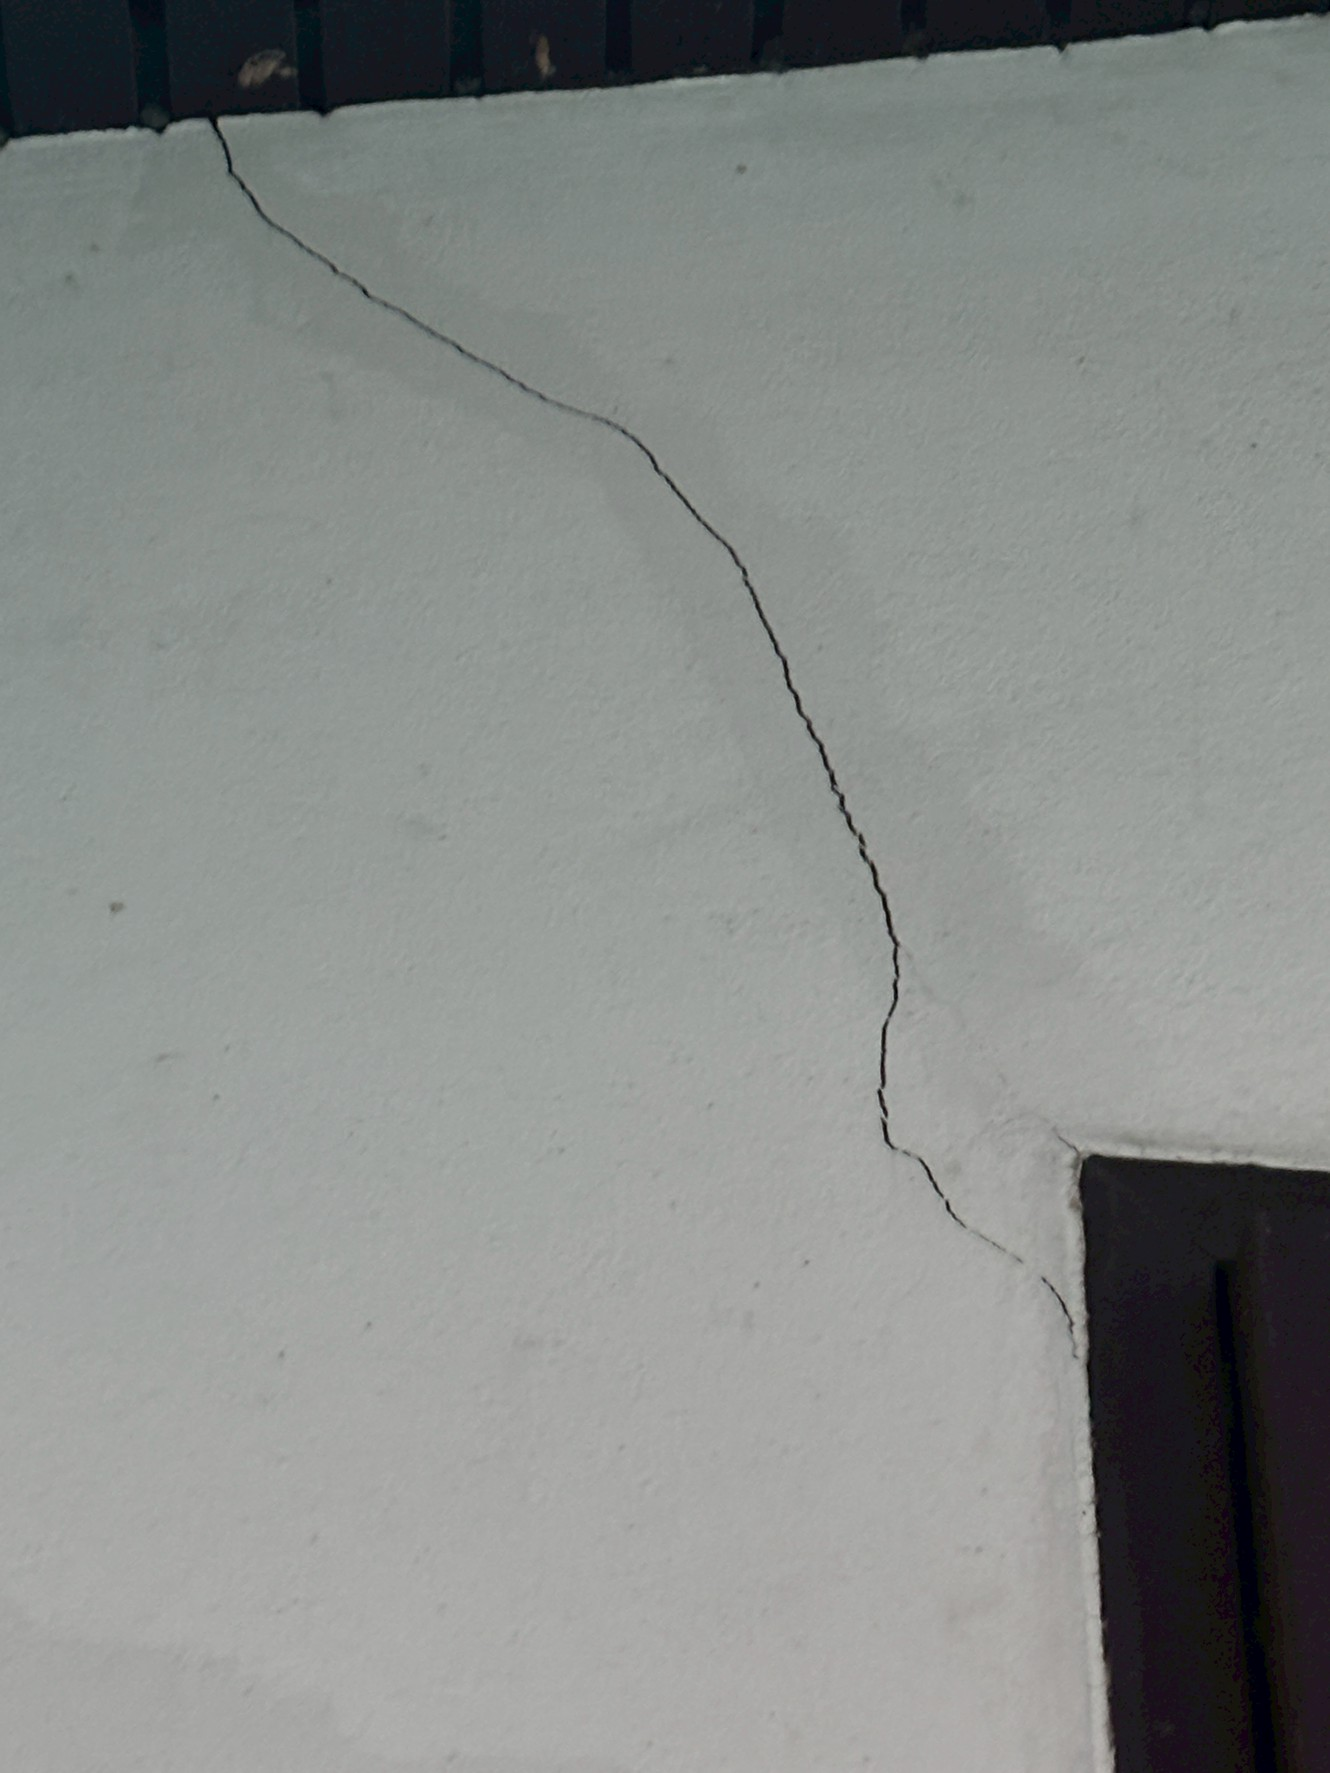Low: (191, 117, 1125, 1411)
